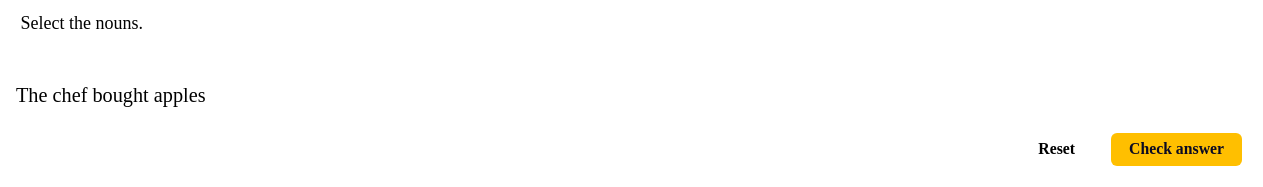
Test: TextSelect › shows unanswered feedback when checking without a selection
Click the button "Check answer" at (1177, 149), box [1111,133,1242,166]
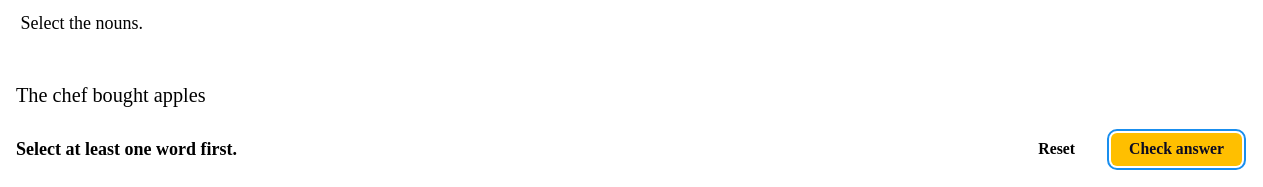
expect the message reads "Select at least one word first.": met, box [16,138,237,158]
